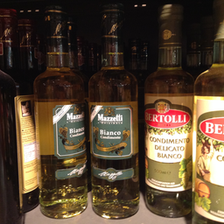vinegar: (33, 11, 88, 219), (87, 8, 139, 220), (141, 5, 193, 217), (194, 21, 224, 205)
